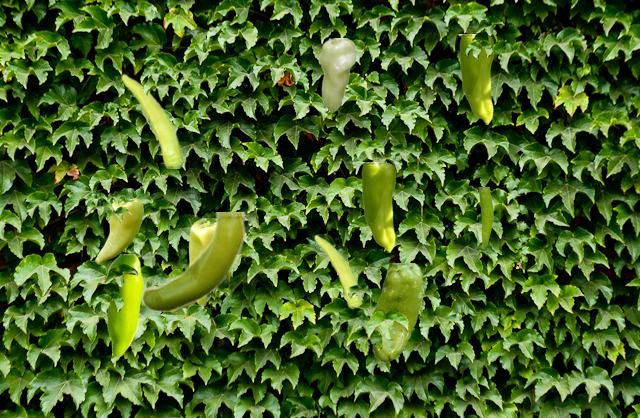green_chili: (140, 212, 246, 310), (121, 73, 182, 167), (372, 263, 421, 361), (170, 218, 214, 312), (106, 254, 142, 356), (314, 234, 360, 307), (458, 34, 492, 123), (360, 162, 394, 251), (95, 199, 142, 263), (318, 38, 355, 111), (478, 187, 492, 247), (197, 299, 207, 305)
